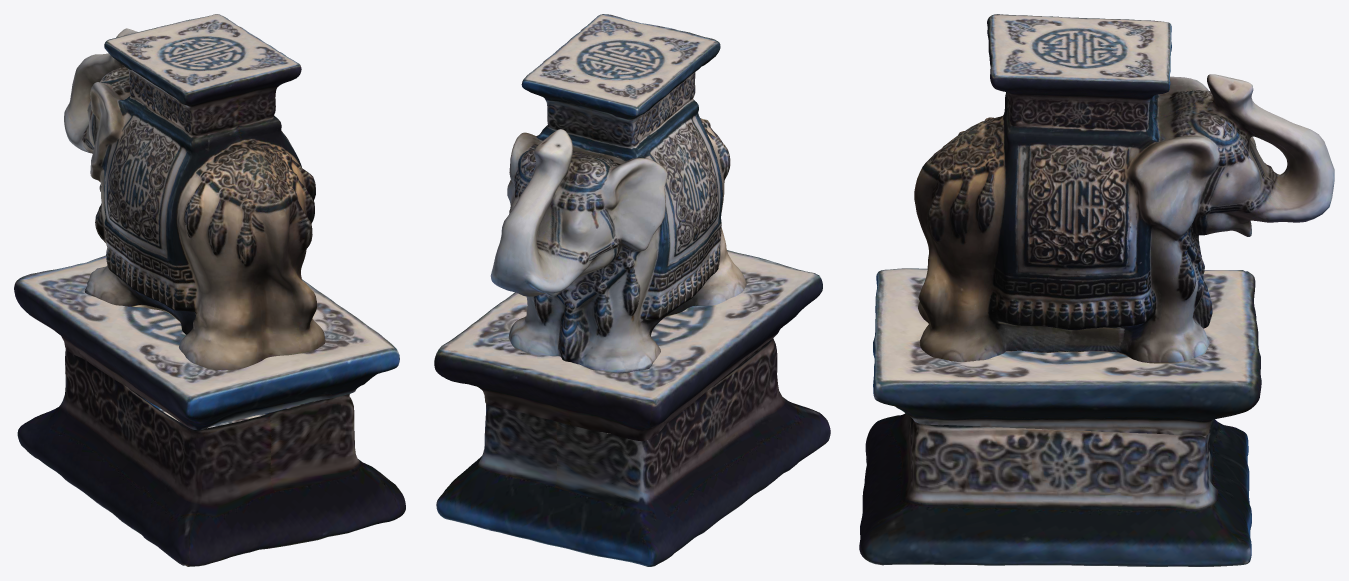
Rendered from Small Elephant Statue.fbx.
3 views of the same model, side by side, from view 1: azimuth 30°, elevation 25°; view 2: azimuth 150°, elevation 25°; view 3: azimuth 270°, elevation 25° (orthographic). The views are drawn at different scales.
Parts seen in each view (by area): view 1: LR_myUVA1, LR_myUVA002, LR_myUVA003; view 2: LR_myUVA1, LR_myUVA002, LR_myUVA003; view 3: LR_myUVA1, LR_myUVA002, LR_myUVA003.
Part boxes in pixels (x1=…): LR_myUVA1: x1=64, y1=14, x2=325, y2=370; LR_myUVA002: x1=17, y1=349, x2=405, y2=566; LR_myUVA003: x1=14, y1=255, x2=399, y2=430; LR_myUVA1: x1=490, y1=14, x2=746, y2=373; LR_myUVA002: x1=436, y1=338, x2=830, y2=566; LR_myUVA003: x1=434, y1=250, x2=822, y2=441; LR_myUVA1: x1=914, y1=14, x2=1334, y2=363; LR_myUVA002: x1=859, y1=413, x2=1251, y2=566; LR_myUVA003: x1=873, y1=268, x2=1261, y2=435.
Bounding box in the file's own units: 15.1 × 27.67 × 25.43.
